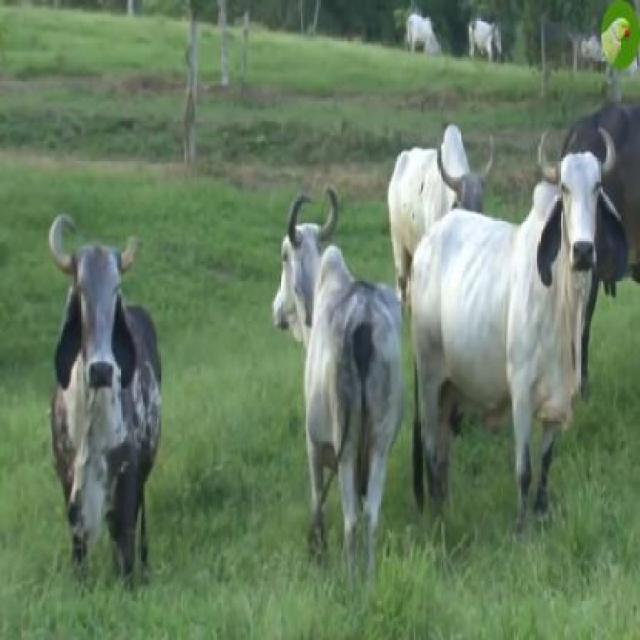Cow: (410, 123, 628, 520), (270, 192, 404, 597), (46, 213, 160, 582)
